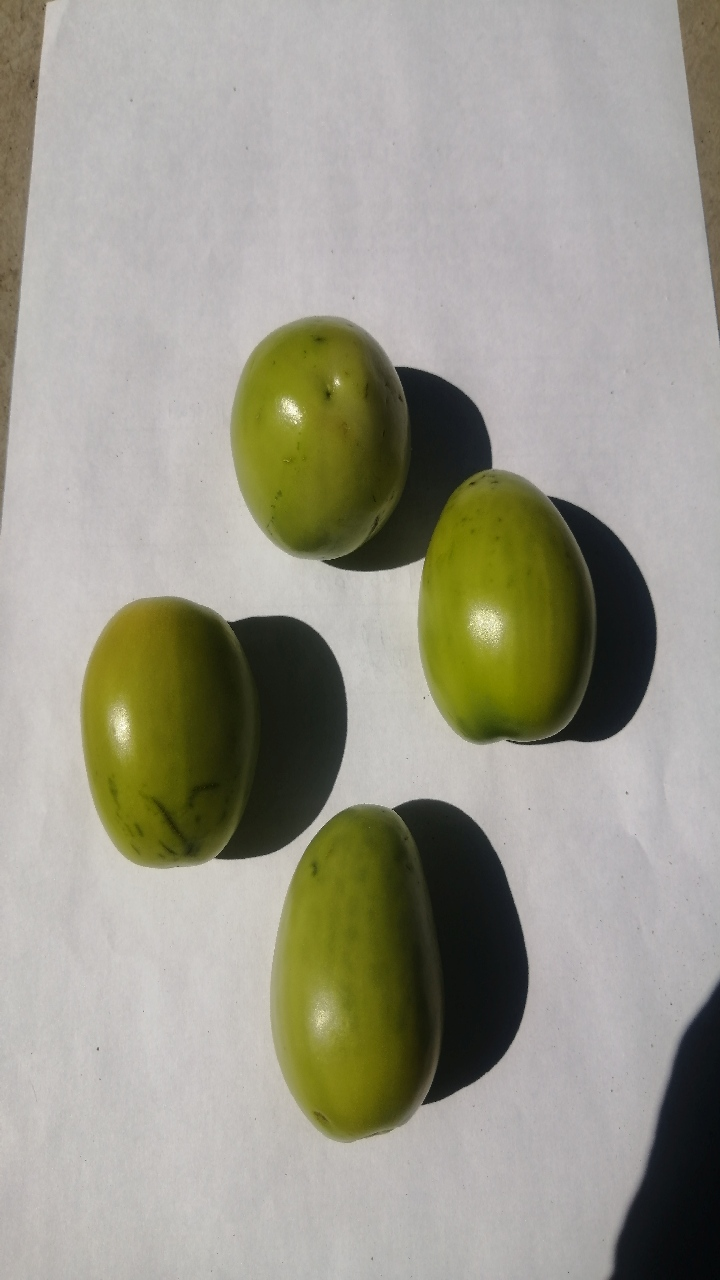tomateVerde: (241, 780, 483, 1171), (57, 559, 272, 895), (201, 288, 424, 582), (409, 443, 620, 749)
